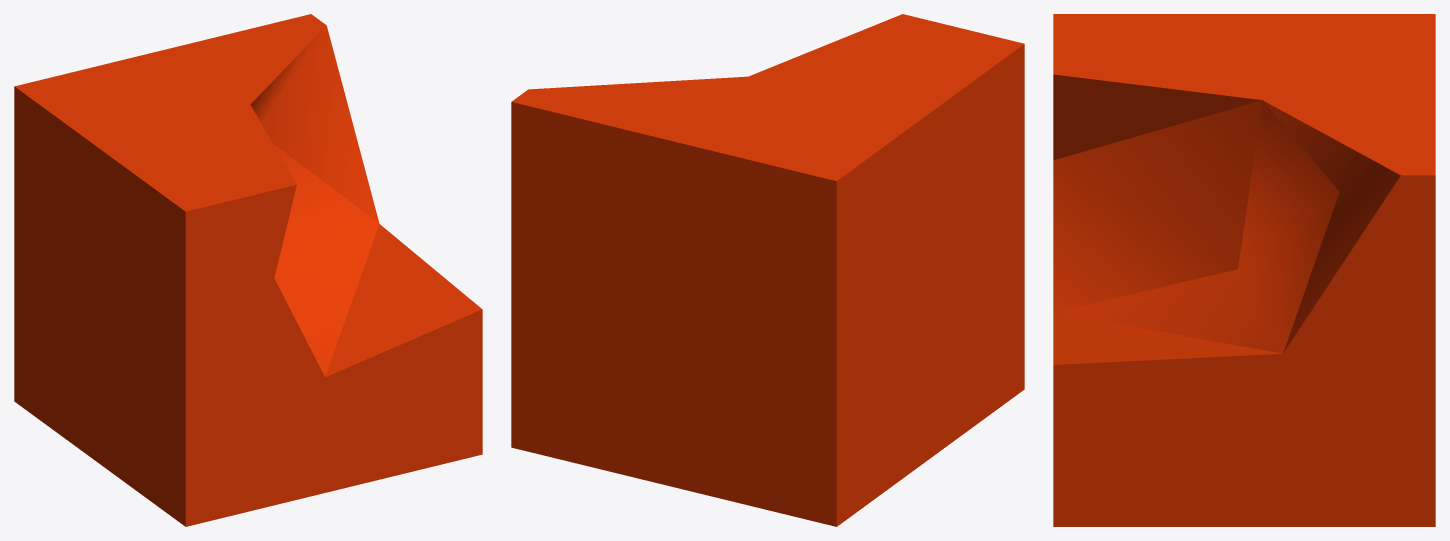
The model's file is mesh_item_sanityrest_big0.fbx.
The picture shows the model from 3 angles, left to right: view 1: azimuth 30°, elevation 25°; view 2: azimuth 150°, elevation 25°; view 3: azimuth 270°, elevation 25°; orthographic projection. The views are drawn at different scales.
Visible parts, largest first — view 1: item_sanityrest_big0; view 2: item_sanityrest_big0; view 3: item_sanityrest_big0.
Part boxes in pixels (<box>): item_sanityrest_big0: <box>14,14,482,526</box>; item_sanityrest_big0: <box>511,14,1024,526</box>; item_sanityrest_big0: <box>1053,14,1435,526</box>.
Size of the model in its own units: 10.82 by 10.98 by 10.82.
